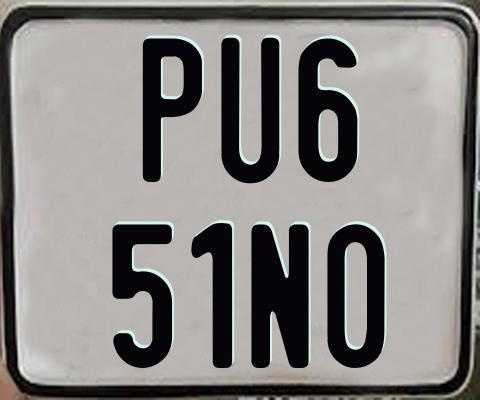0: (324, 223, 382, 369)
1: (188, 221, 229, 366)
5: (110, 223, 170, 369)
6: (296, 36, 359, 180)
N: (250, 221, 309, 367)
P: (142, 38, 201, 187)
U: (221, 35, 281, 181)
